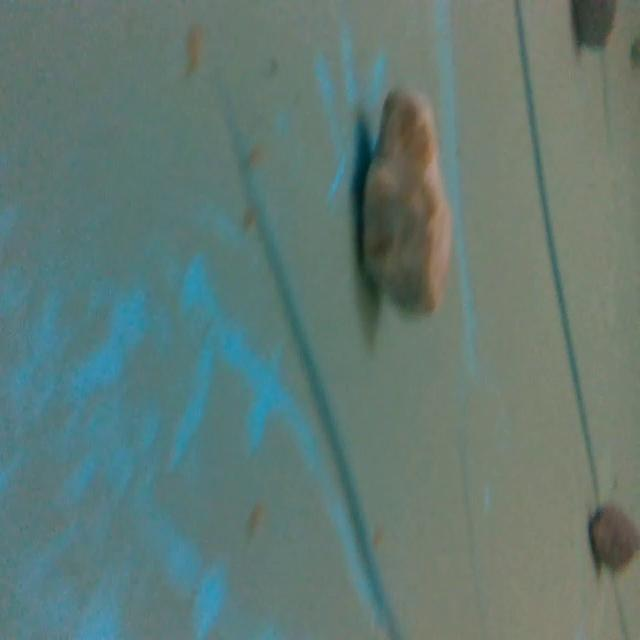rock: (348, 79, 468, 331), (580, 491, 640, 572)
